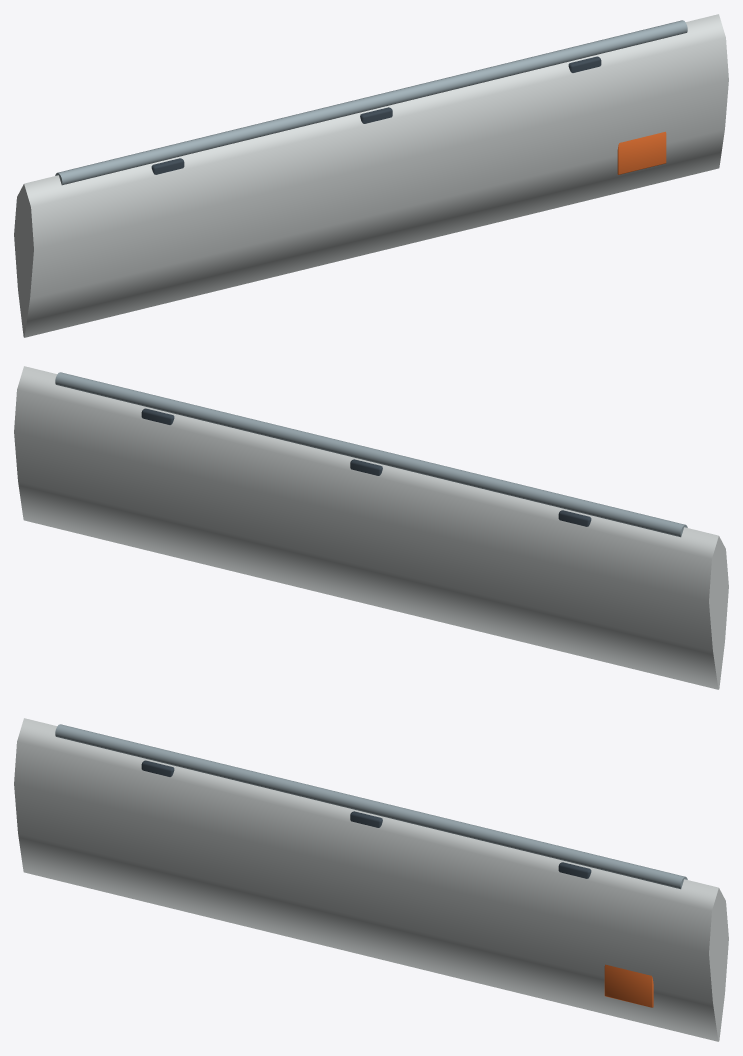
File: aileron.glb
The picture shows the model from 3 angles, top to bottom: view 1: azimuth 30°, elevation 25°; view 2: azimuth 150°, elevation 25°; view 3: azimuth 330°, elevation 25°; orthographic projection.
Visible parts, largest first — view 1: aileron aerodynamic shell; view 2: aileron aerodynamic shell; view 3: aileron aerodynamic shell.
Boxes of the visible parts, x1=… form: aileron aerodynamic shell: x1=14, y1=14, x2=728, y2=337; aileron aerodynamic shell: x1=14, y1=366, x2=728, y2=689; aileron aerodynamic shell: x1=14, y1=718, x2=728, y2=1041.
Bounding box in the file's own units: 1.4 × 0.3 × 0.07.
